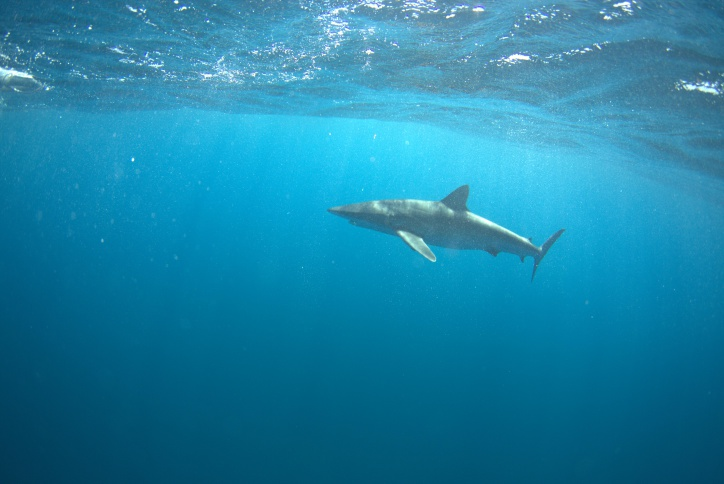Sedoso: (316, 181, 576, 289)
